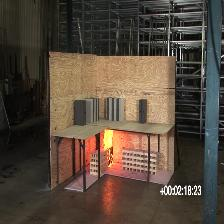fire: (103, 128, 115, 159)
